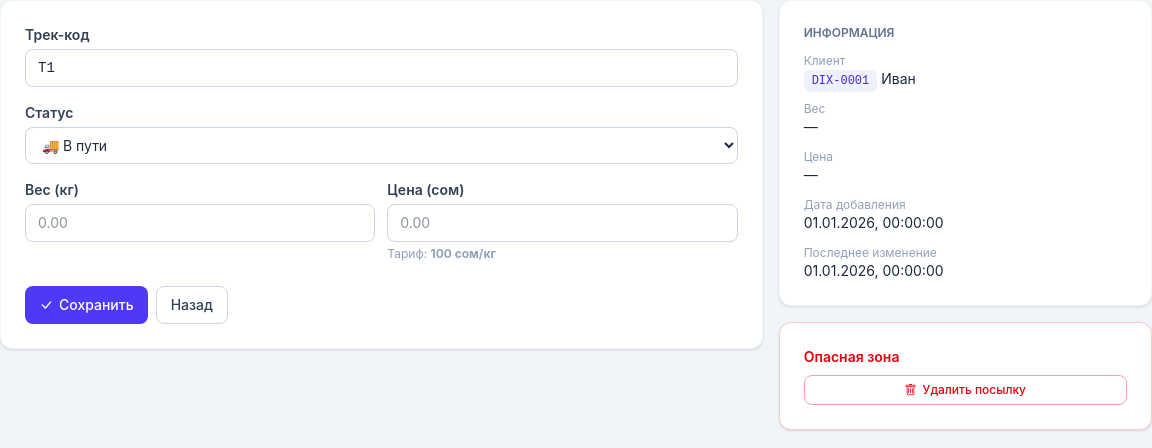
Test case: PackageDetailView › auto-calculates price from weight using the tariff
This screenshot has width=1152, height=448.
In the number field with placeholder "0.00" below "Вес (кг)": (200, 223) top-left (25, 204), bottom-right (375, 242), type "2"
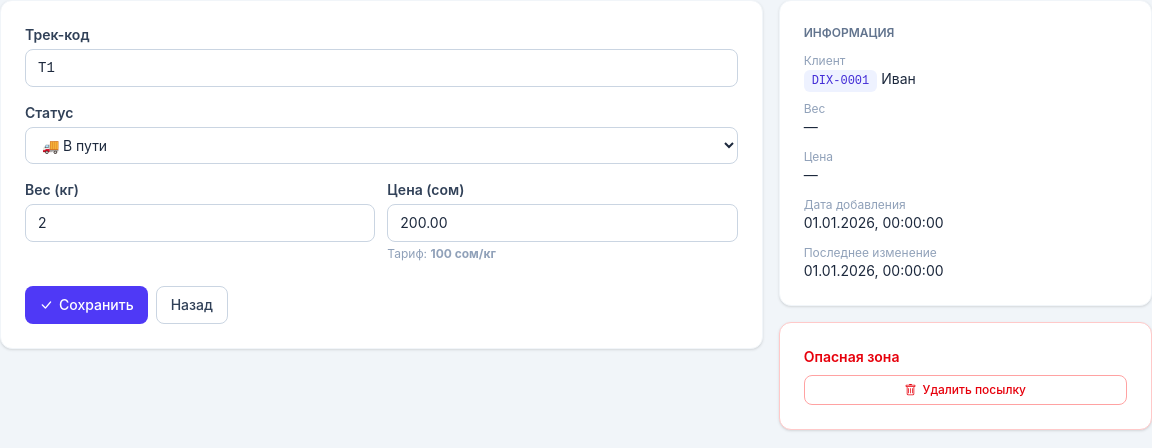
Now the number field with placeholder "0.00" below "Цена (сом)" holds "200.00", box top-left (387, 204), bottom-right (738, 242)
